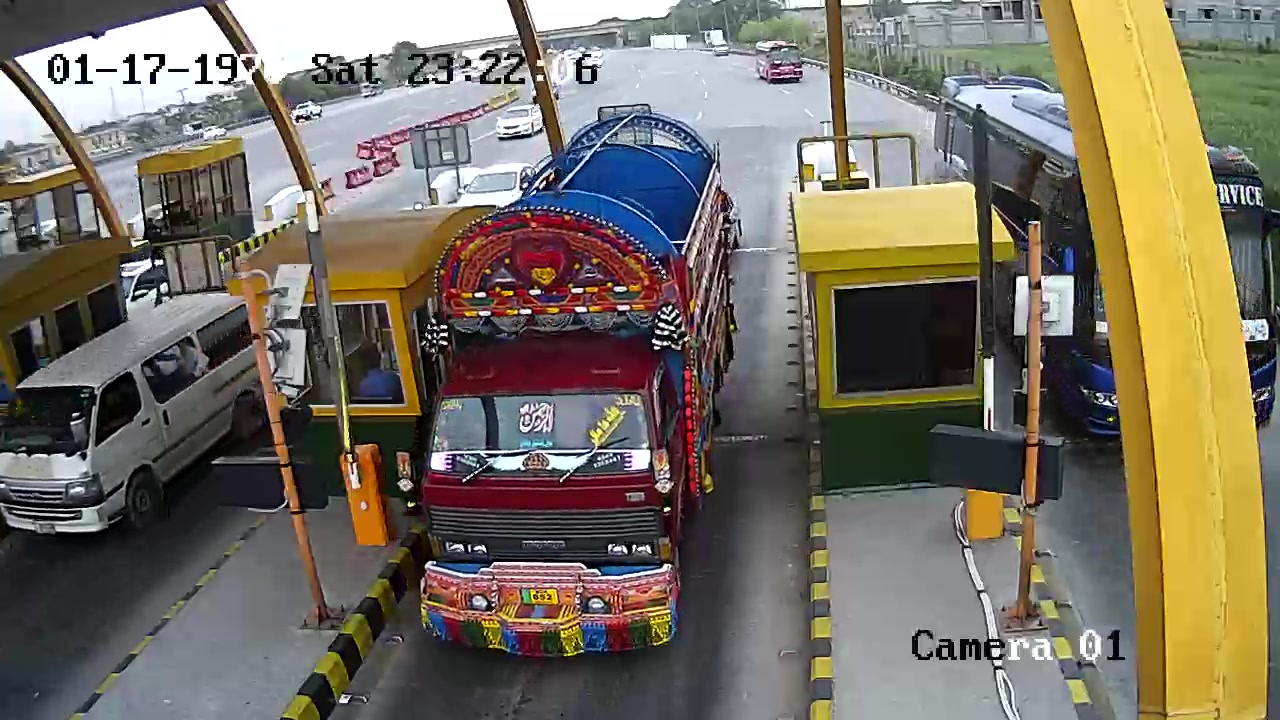F5: (403, 117, 748, 648)
